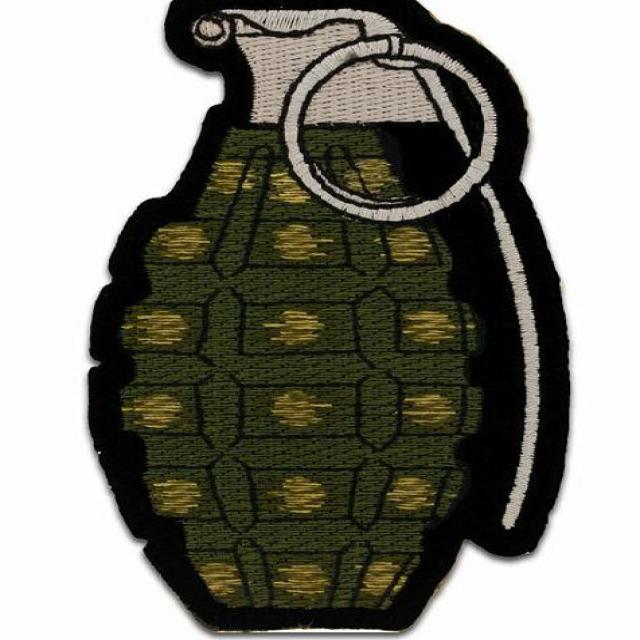grenade: (68, 0, 576, 631)
